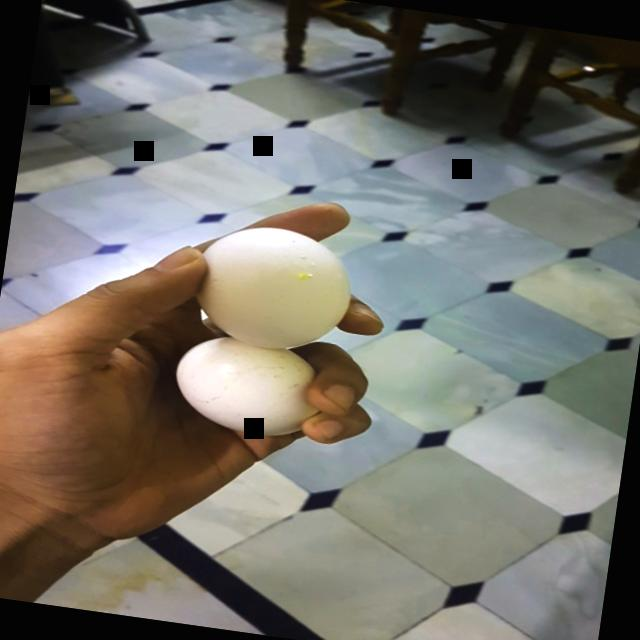eggs: (181, 212, 367, 358), (166, 326, 334, 446)
